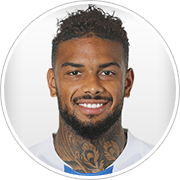smile: (74, 99, 108, 113)
